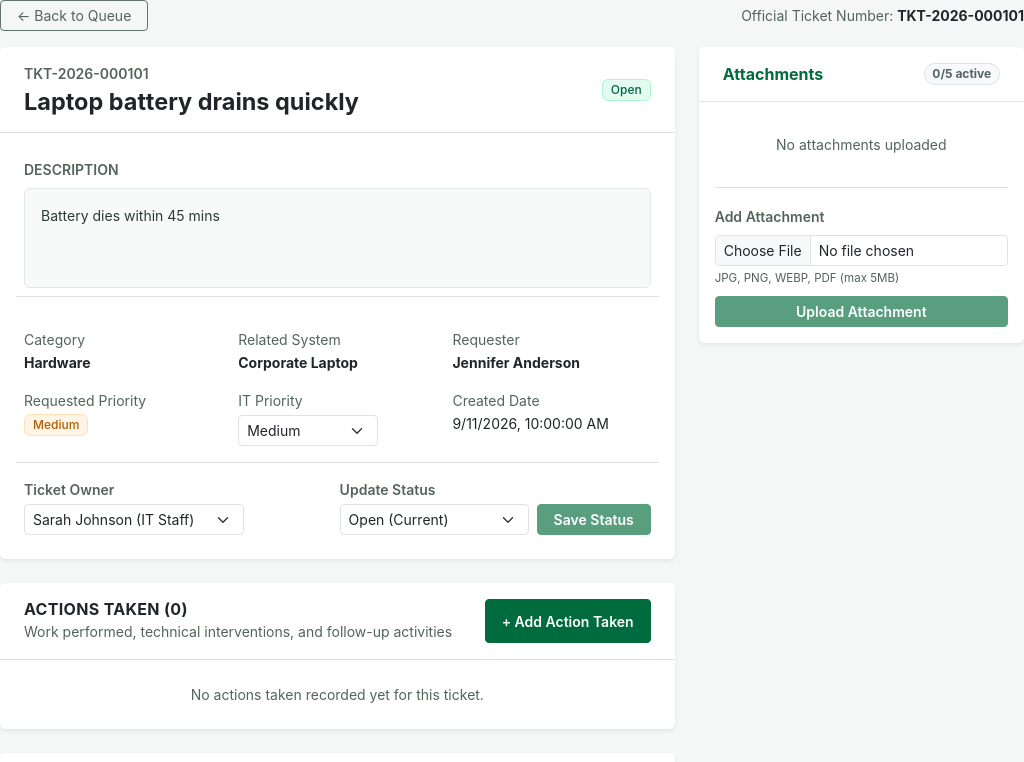
Test: Lab 4 / UI-08: Ticket Workflow, Resolution Gate & Concurrency Control › launches Resolution Gate Modal with warning and disabled submit when ticket has 0 Actions Taken
Select "Resolved" in the dropdown named "ticket status". click: (434,520)
box: [340,504,529,535]
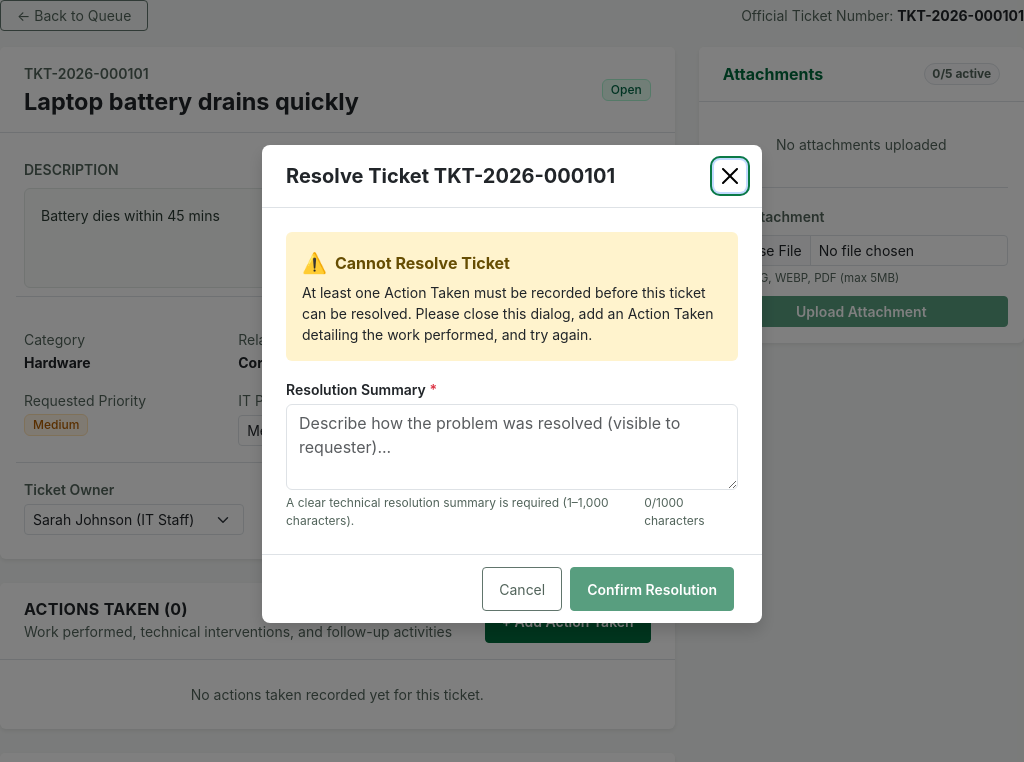
Result: the heading "Resolve Ticket TKT-2026-000101" is shown at [286,161,615,191]
Result: the message with test id "resolution-gate-warning" is shown at [286,232,738,361]
Result: the text "Cannot Resolve Ticket" is shown at [335,251,510,275]
